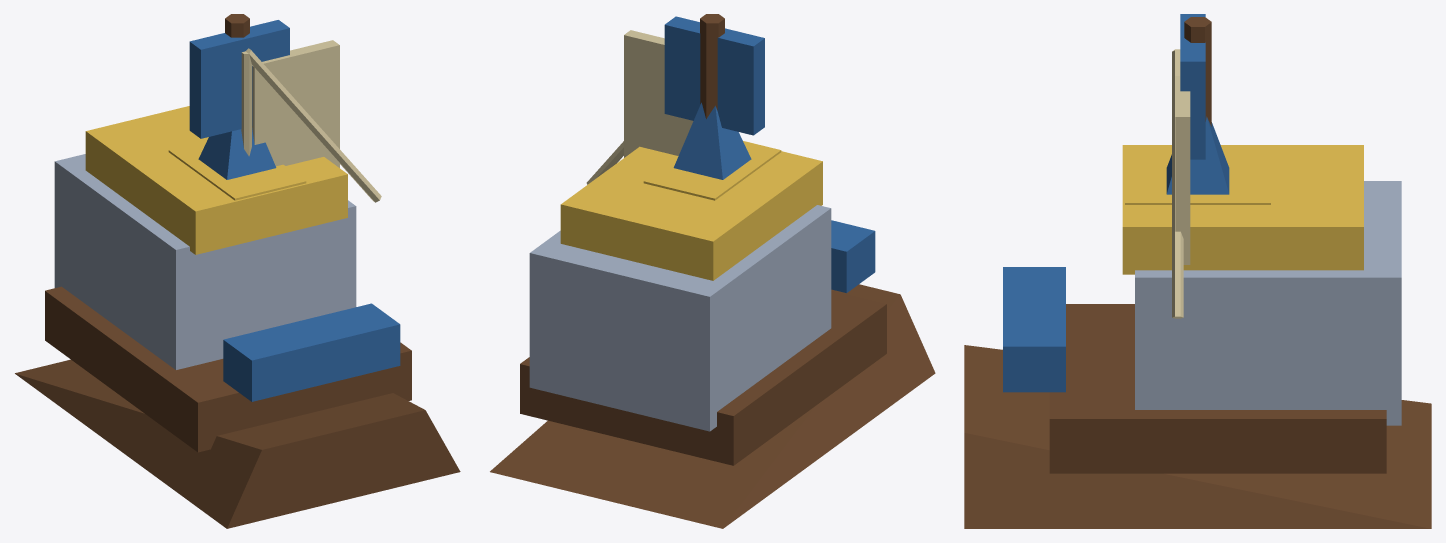
File: transport-ship.obj
3 renders of one model, left to right at view 1: azimuth 30°, elevation 25°; view 2: azimuth 150°, elevation 25°; view 3: azimuth 270°, elevation 25°, orthographic. The views are drawn at different scales.
Parts seen in each view (by area): view 1: ship; view 2: ship; view 3: ship.
Part boxes in pixels (bbox=[...]): ship: bbox=[15, 14, 460, 528]; ship: bbox=[490, 14, 935, 528]; ship: bbox=[964, 14, 1431, 528].
Bounding box in the file's own units: 1.27 × 1.95 × 1.86.
